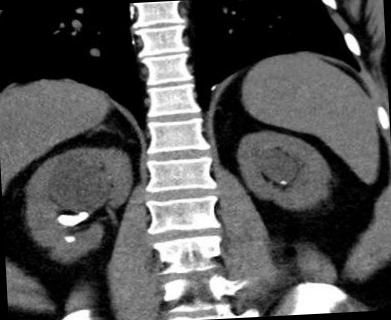Tas_Var: (53, 206, 92, 230), (60, 232, 78, 245), (277, 178, 290, 186)
